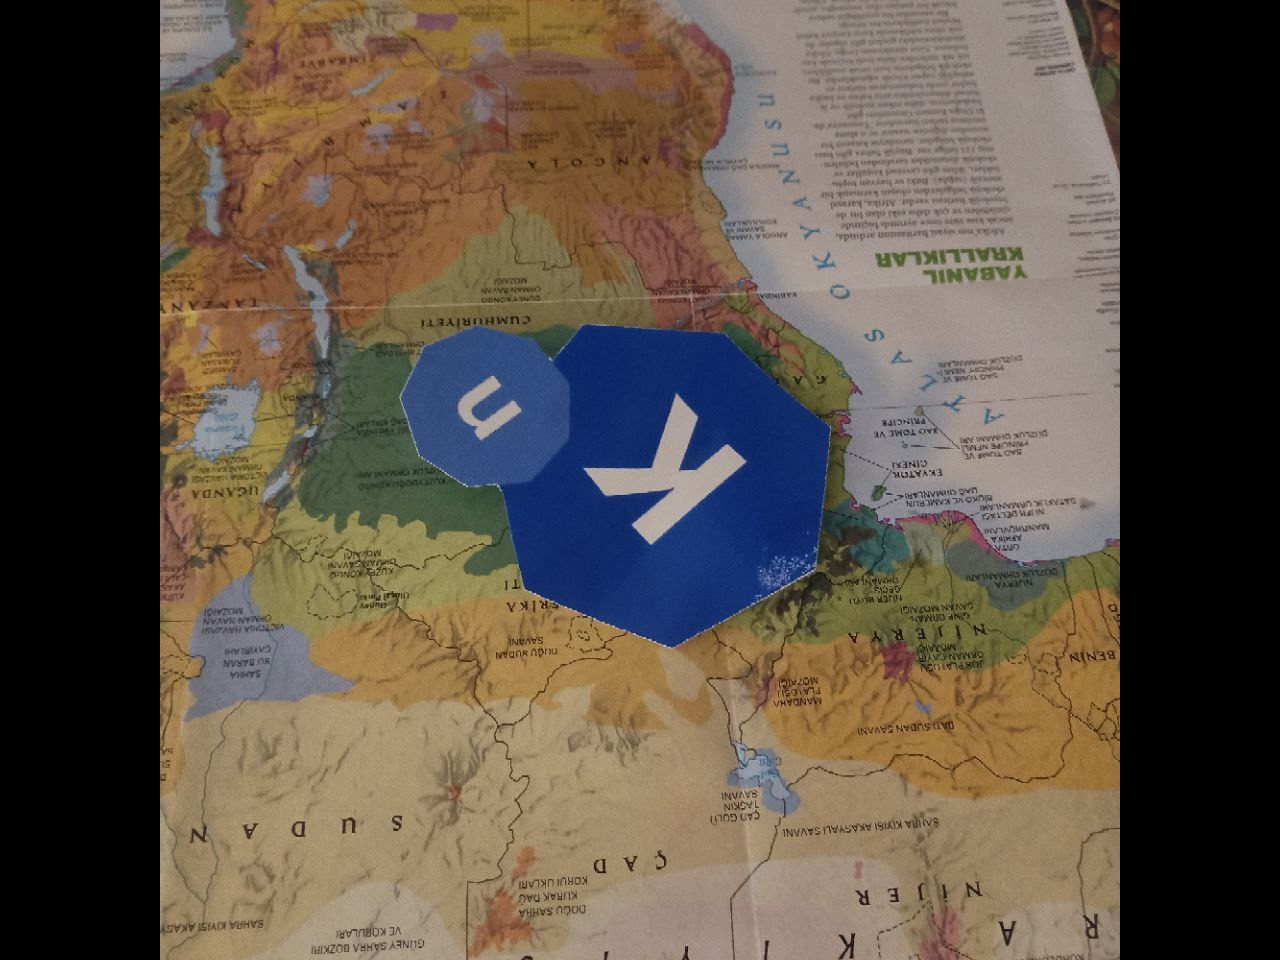knative: (397, 320, 833, 649)
